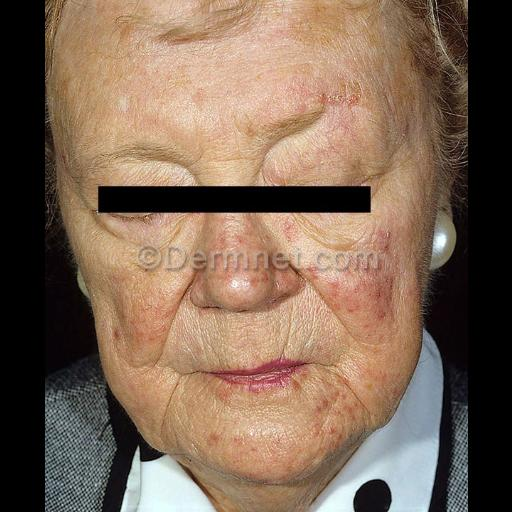Skin_Lesion: (310, 84, 366, 114), (308, 267, 344, 301), (364, 276, 388, 304), (376, 220, 394, 252), (203, 233, 231, 251), (112, 322, 126, 346), (318, 396, 332, 418), (208, 430, 218, 448)
